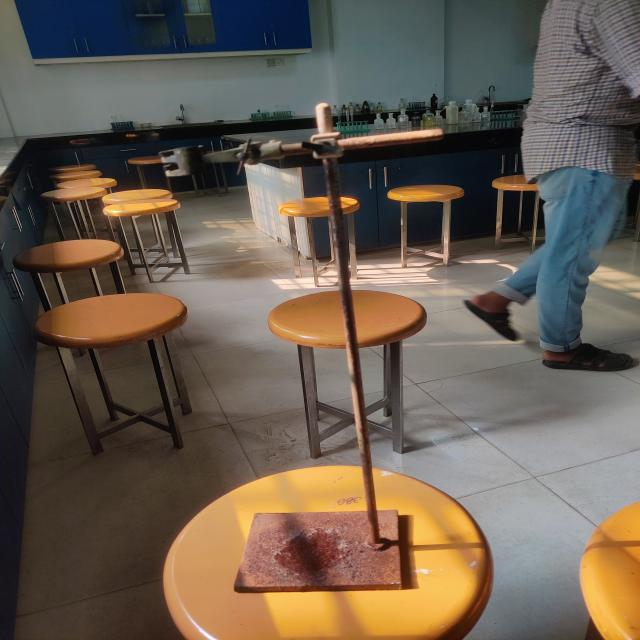Burette_Stands: (208, 82, 477, 618)
